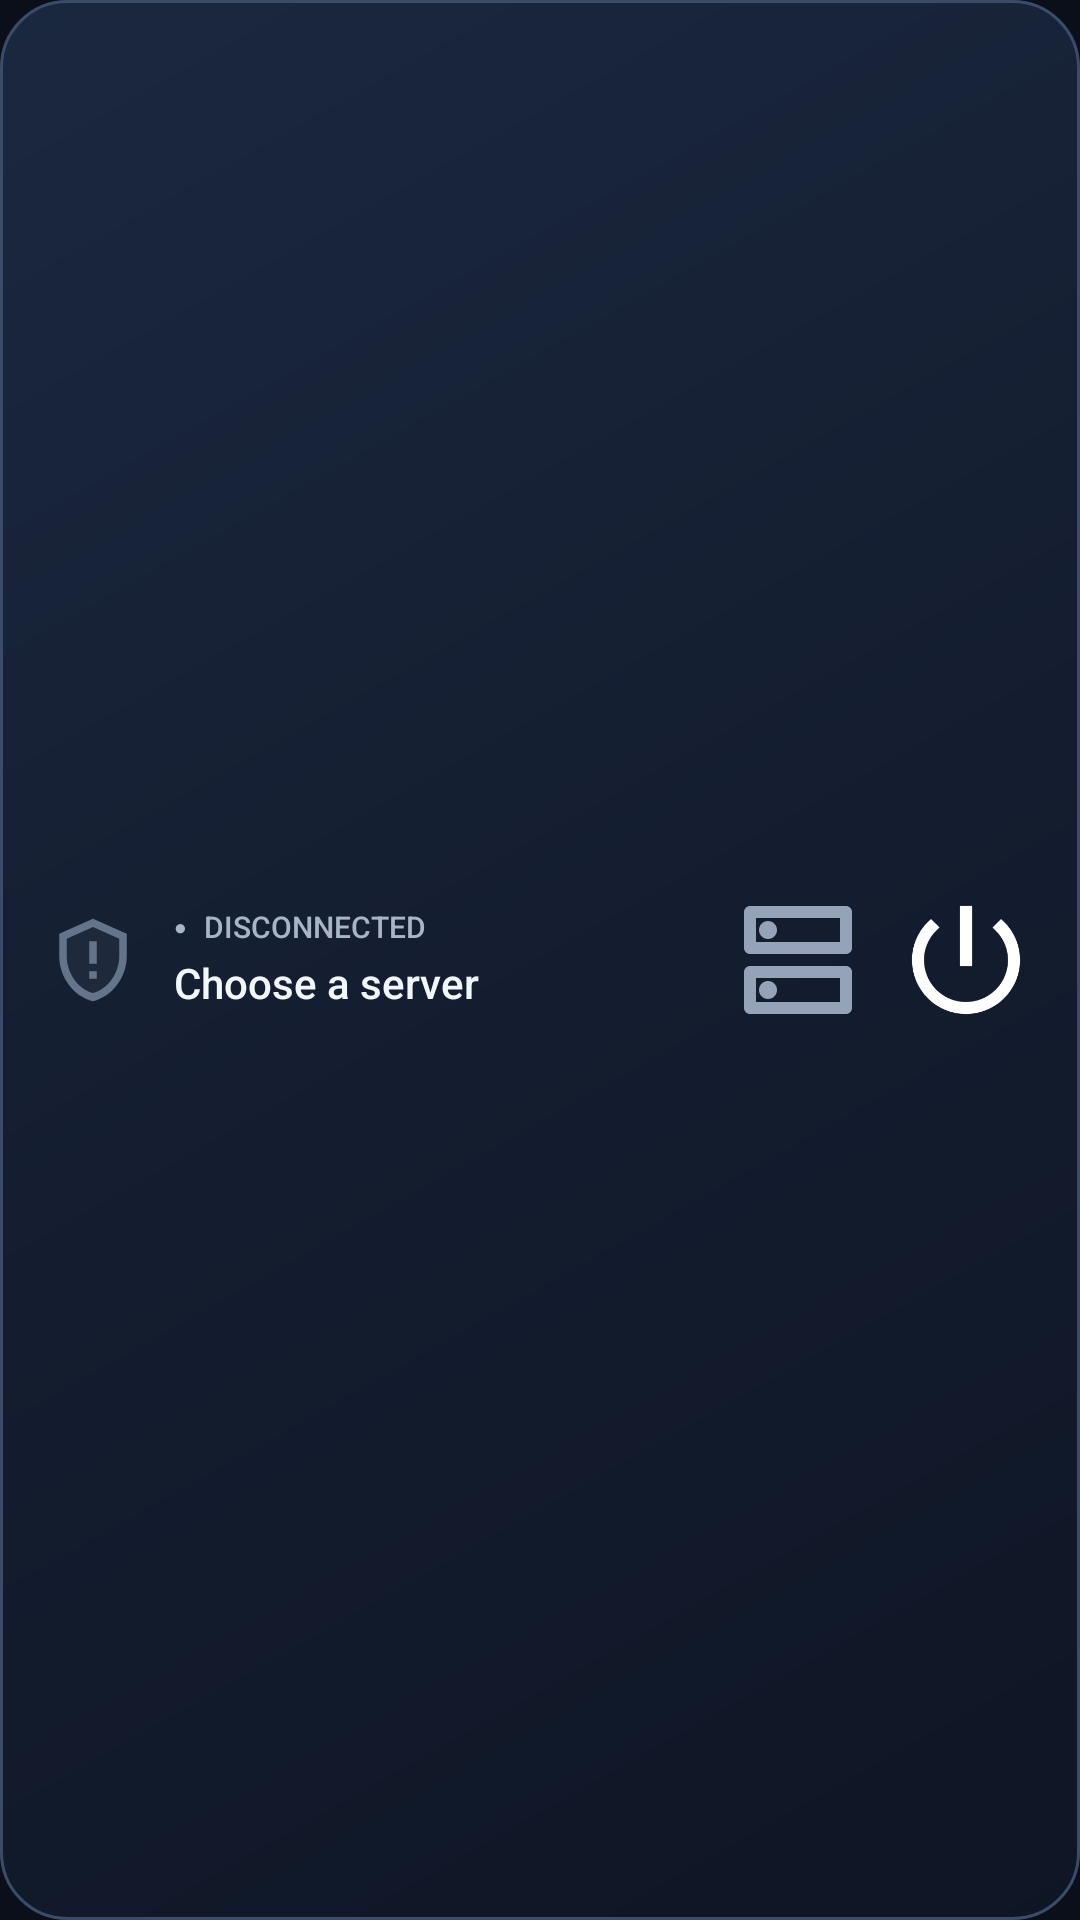

Icon bounding boxes for this 1080 × 1920 phone screenshot, format detection(x1, y1, x2, y2):
Turn VPN on: detection(912, 906, 1020, 1014)
widget shield off: detection(59, 919, 127, 1002)
